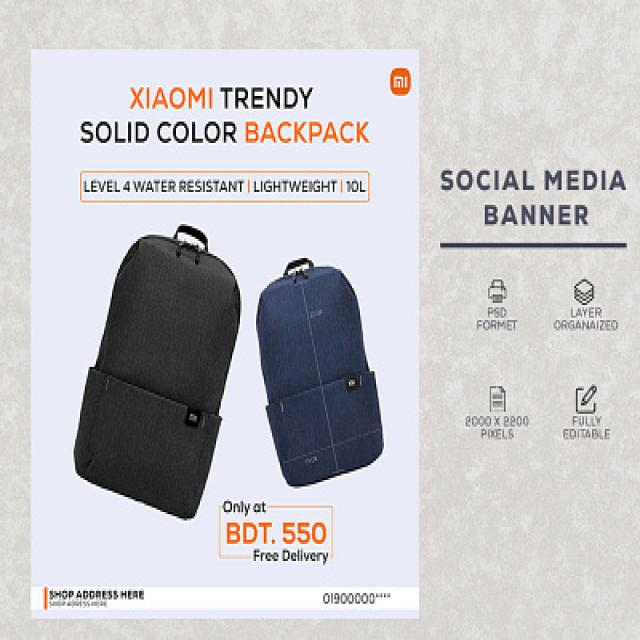backpack: (72, 217, 247, 527), (247, 253, 391, 492)
